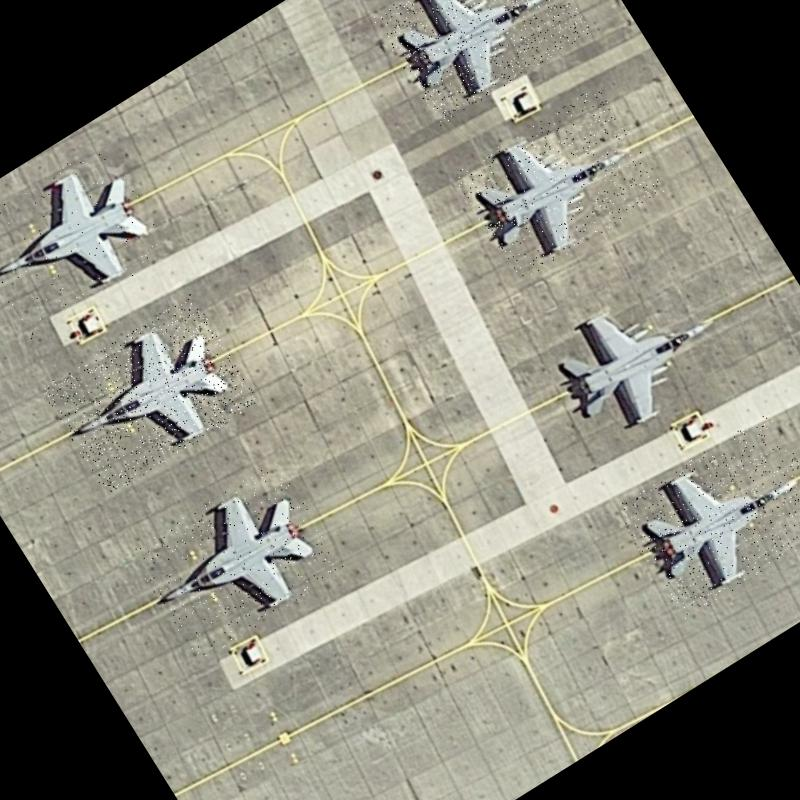A16: (40, 294, 260, 497), (128, 460, 346, 664), (452, 83, 667, 284), (536, 254, 749, 454), (613, 411, 800, 621), (0, 140, 174, 339), (371, 0, 591, 126)
